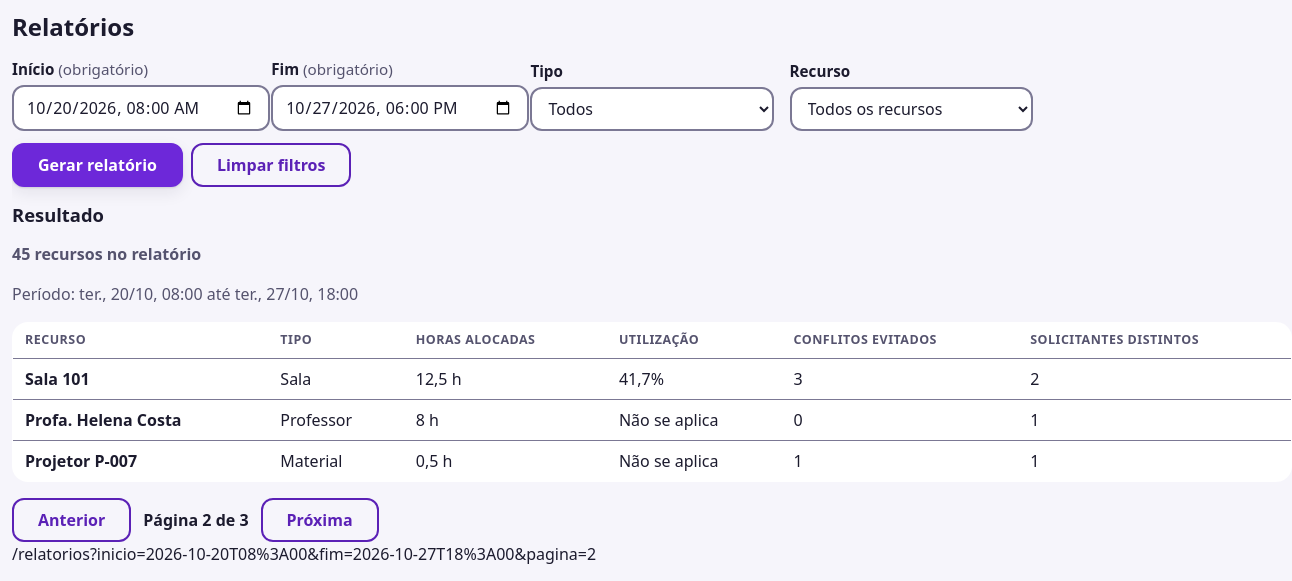
Scenario: PaginaDeRelatorios: paginação (o tamanho da página é a suposição D4) › mudar um filtro volta para a primeira página
Expected: the text "Página 2 de 3" is shown, [143,508,249,532]
Select "Sala" in the dropdown labelled "Tipo" at {"x": 652, "y": 109}, box [530,87,774,131]
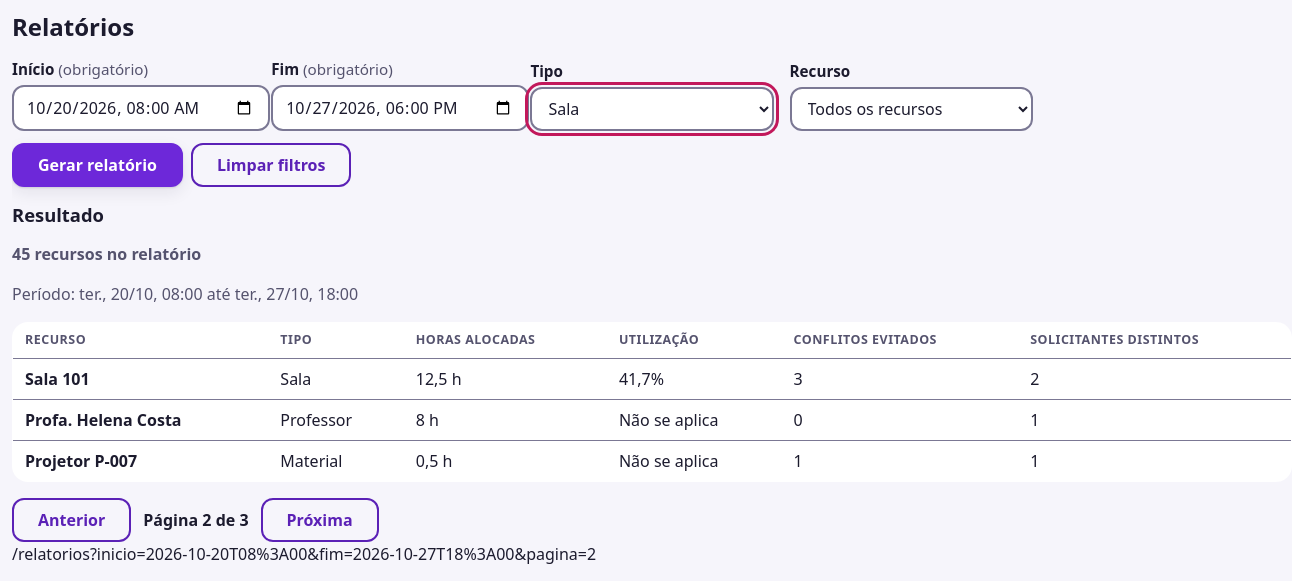
Click the button "Gerar relatório" at {"x": 97, "y": 165}, box [12,143,183,187]
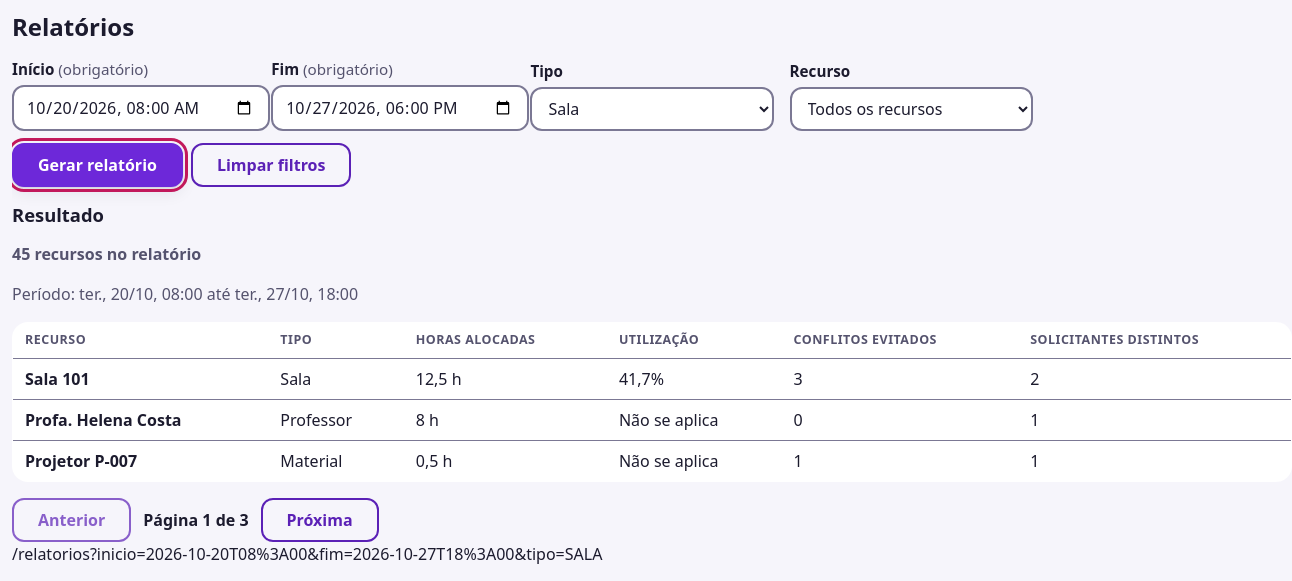
Expected: the text labelled "endereço atual" no longer shows "pagina="
